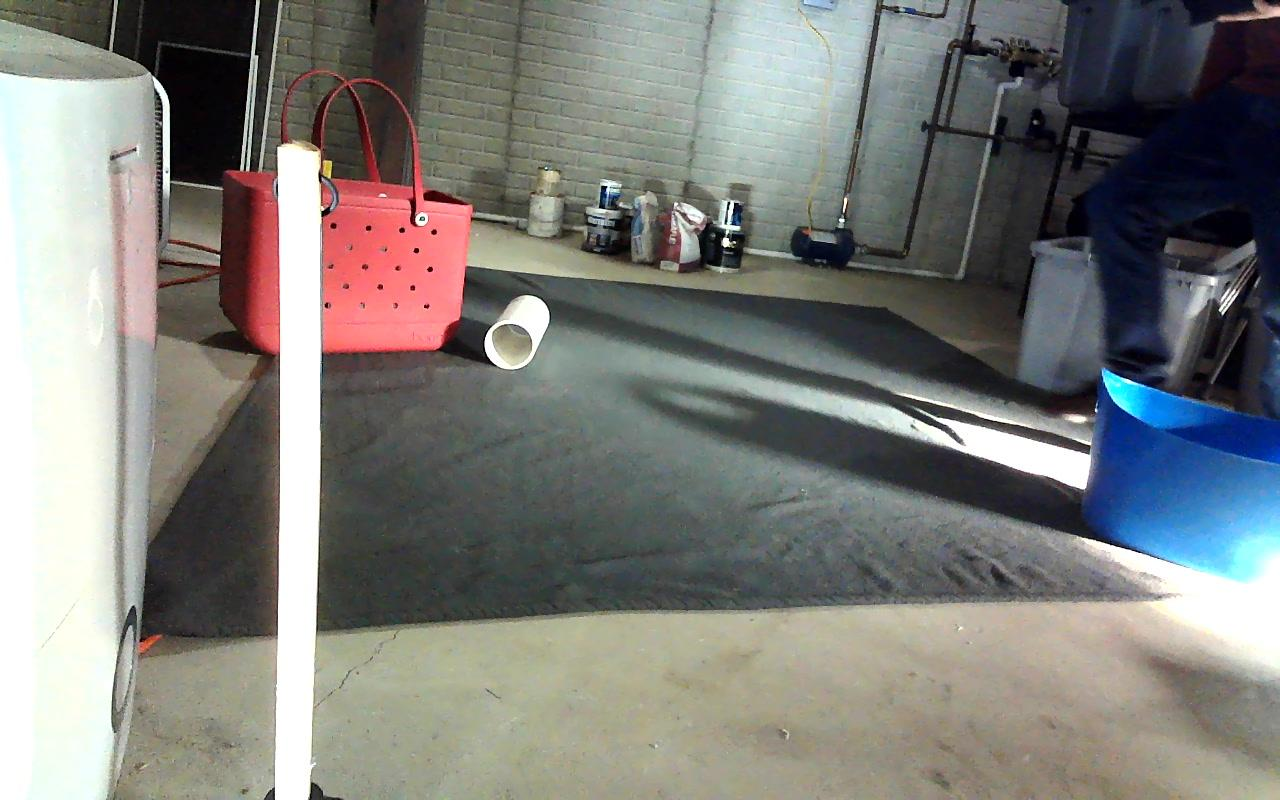coral: (485, 296, 549, 370)
